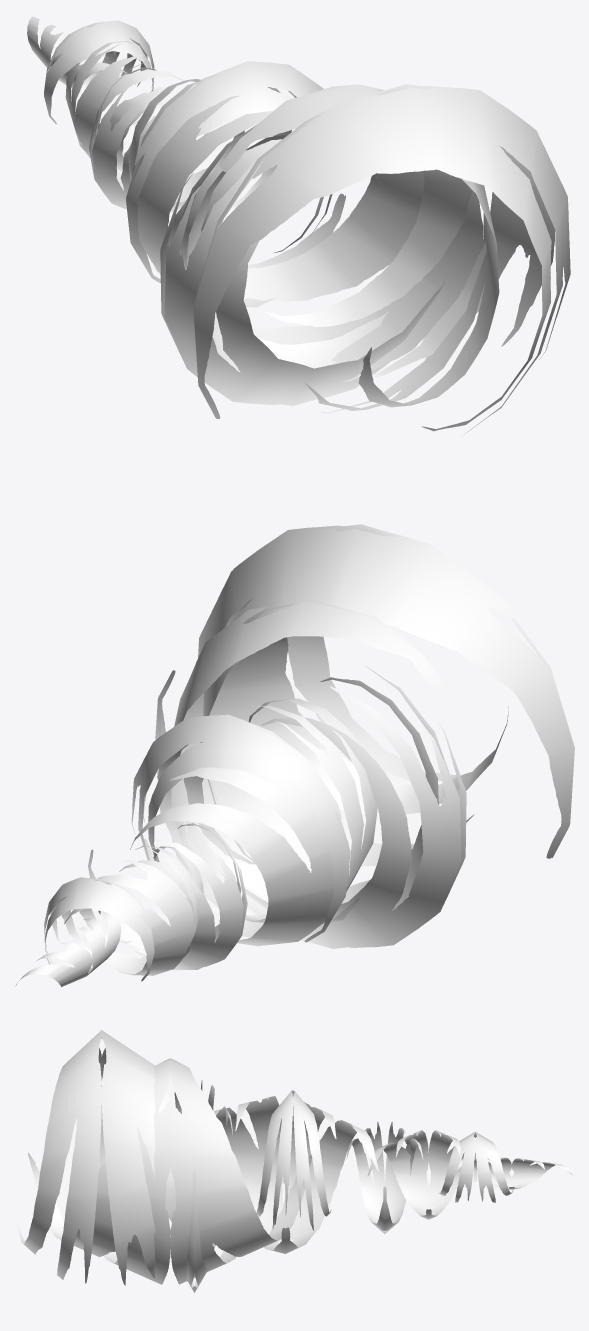
File: Trace_Fx1.FBX
3 views of the same model, one above another, from view 1: azimuth 30°, elevation 25°; view 2: azimuth 150°, elevation 25°; view 3: azimuth 270°, elevation 25° (orthographic). The views are drawn at different scales.
Parts seen in each view (by area): view 1: Sphere013; view 2: Sphere013; view 3: Sphere013.
Part boxes in pixels (box(x1,y1,x2,y2)): Sphere013: box(27, 16, 570, 434); Sphere013: box(15, 524, 574, 987); Sphere013: box(17, 1030, 572, 1293).
Bounding box in the file's own units: 50.51 × 98.07 × 50.51.
Materials: 1 (1 with a texture image).
